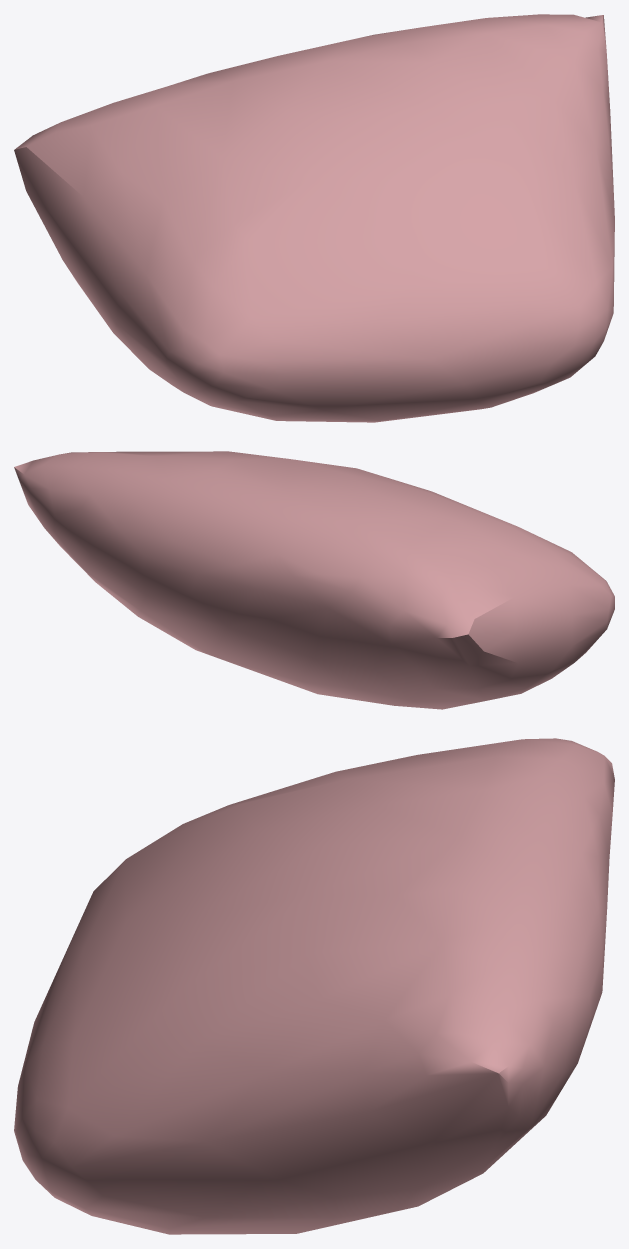
The model's file is fma74883-l_mm2998.glb.
The picture shows the model from 3 angles, top to bottom: view 1: azimuth 30°, elevation 25°; view 2: azimuth 150°, elevation 25°; view 3: azimuth 270°, elevation 25°; orthographic projection. The views are drawn at different scales.
Parts seen in each view (by area): view 1: FMA74883-L_MM2998; view 2: FMA74883-L_MM2998; view 3: FMA74883-L_MM2998.
Part boxes in pixels (x1,y1,x2,y2): FMA74883-L_MM2998: (14,14,614,422); FMA74883-L_MM2998: (14,451,614,709); FMA74883-L_MM2998: (14,738,614,1234).
Bounding box in the file's own units: 0.00615 × 0.00278 × 0.0043.
